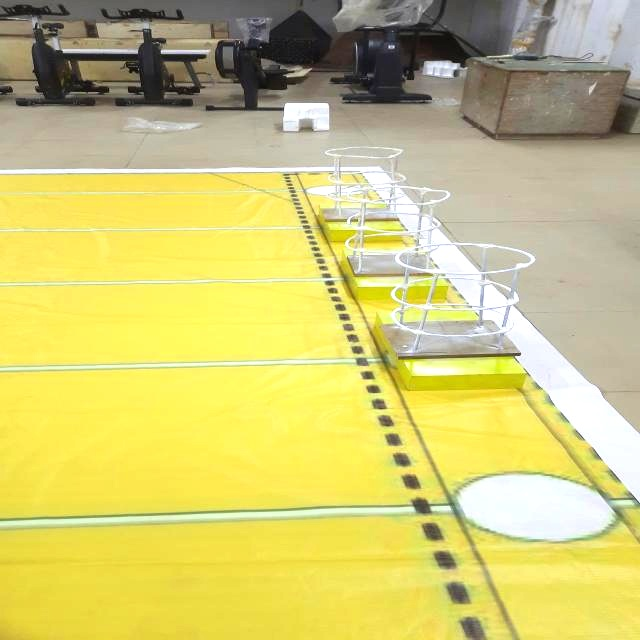silo: (387, 240, 539, 366), (336, 182, 459, 282), (314, 140, 414, 226)
